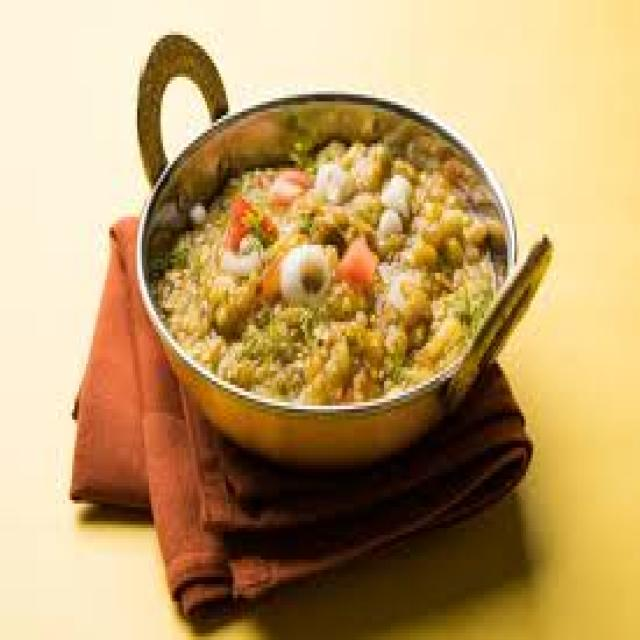UPMA: (151, 133, 500, 395)
